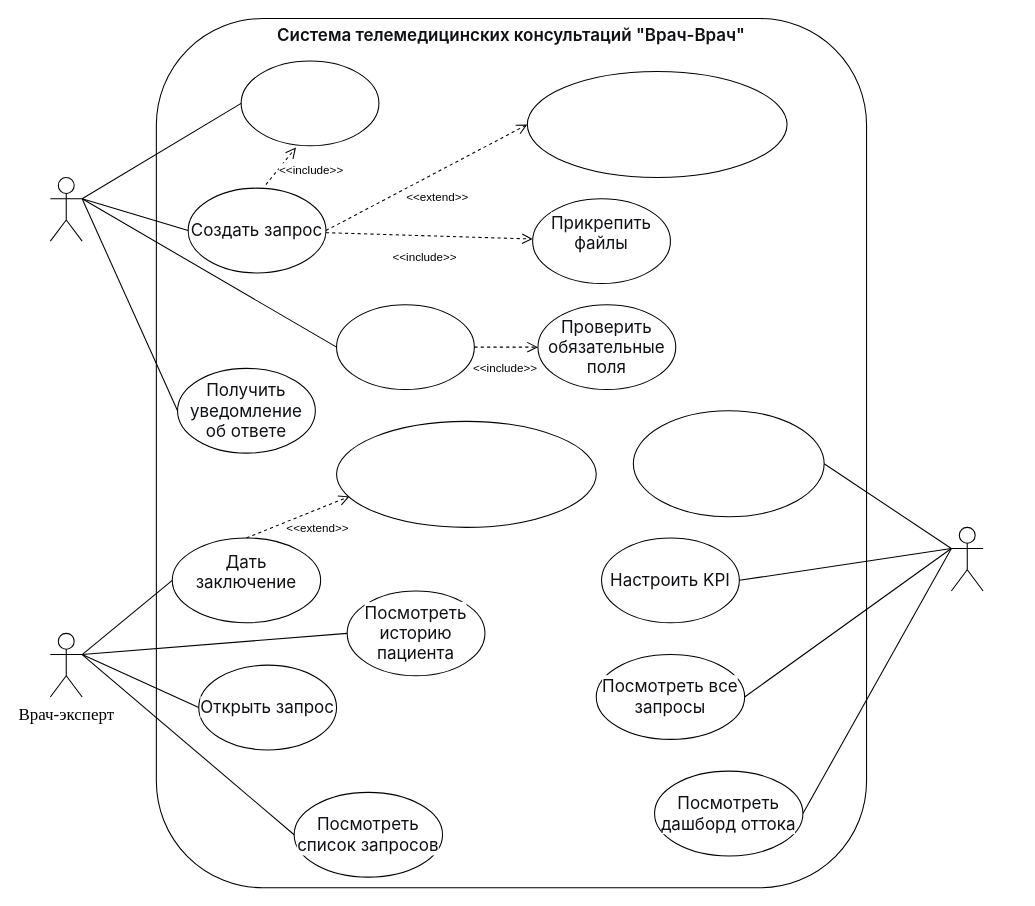
This 1035x906 diagram has some shape labels left out. Here are the shapes that lost their labels. From the top down, the centre of each, then its label:
[309,103]: Выбрать эксперта
[656,124]: Показать предупреждение о дубликате (если пациент уже консультировался)
[65,208]: Терапевт
[404,347]: Отправить запрос
[465,473]: Запросить уточнение (если эксперту не хватает данных)
[728,463]: Посмотреть отчёт по повторным консультациям
[966,558]: Главный врач
